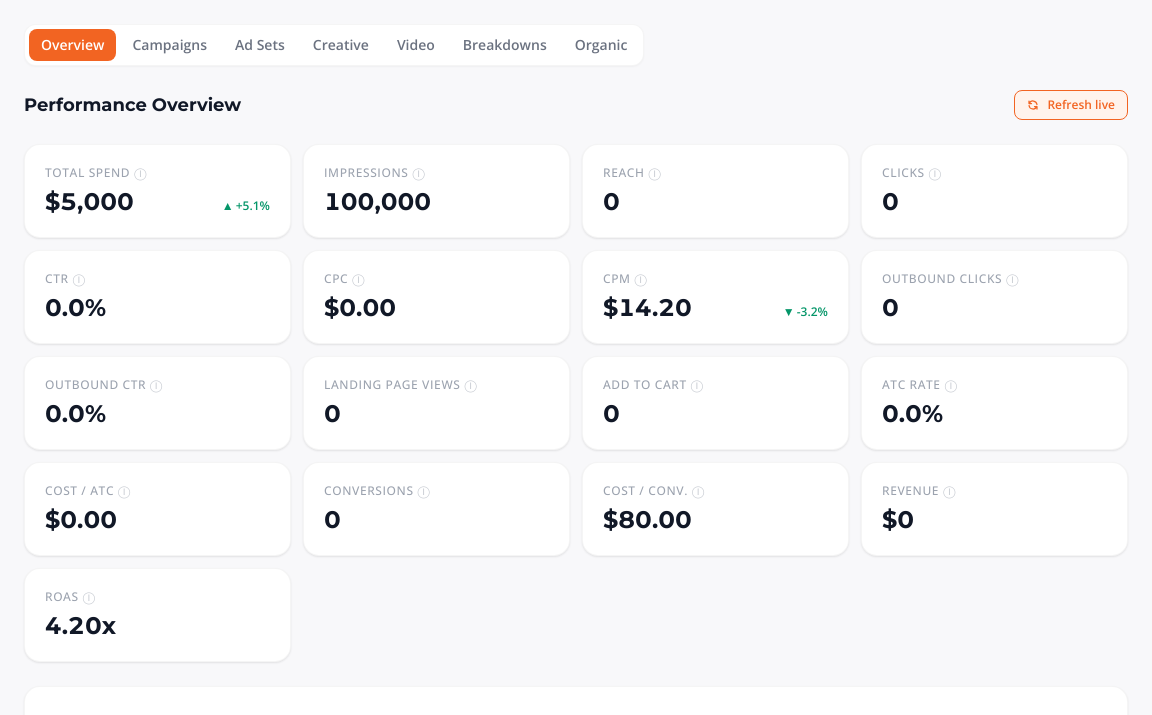
Test: Video sub-tab renders retention data
What coordinates should you click on to do the following:
click the tab "Video"
I would click on:
 (416, 45)
Its box is [385, 29, 447, 61].
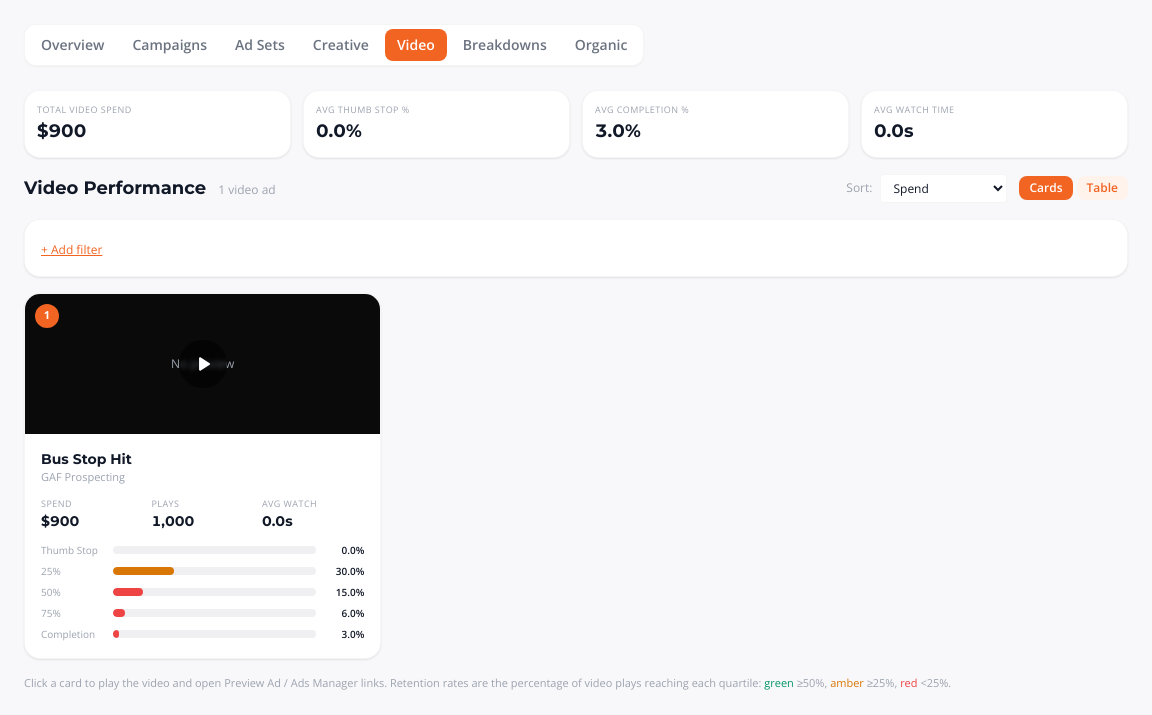
Expected: the heading "Video Performance" is shown, [24, 174, 206, 202]
